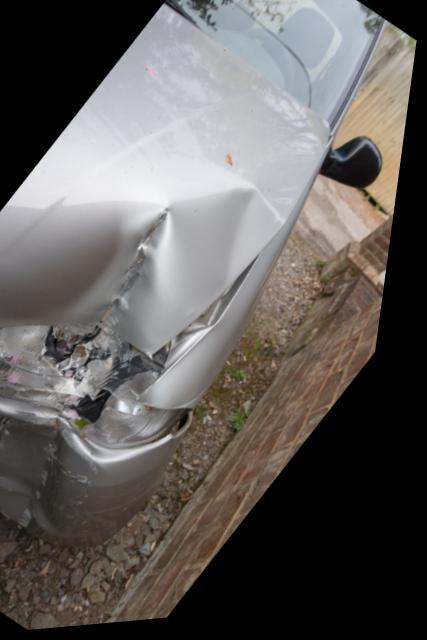dent: (0, 185, 287, 353), (0, 423, 98, 539)
lamp broken: (0, 323, 195, 451)
